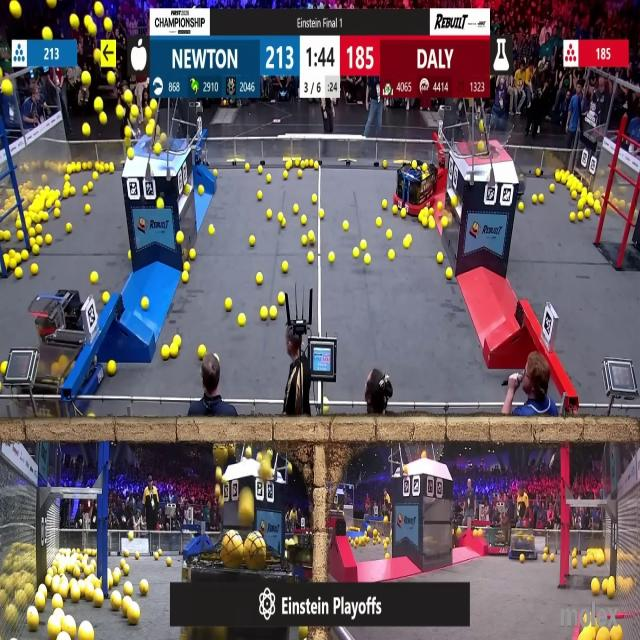ball_airborne: (236, 487, 251, 525), (263, 460, 275, 486), (241, 488, 253, 509), (85, 14, 95, 33), (10, 1, 20, 18), (88, 20, 98, 36), (94, 98, 104, 112), (2, 80, 12, 94), (95, 2, 104, 16), (115, 105, 124, 119), (104, 18, 112, 33), (82, 124, 90, 138), (70, 14, 78, 28), (108, 72, 116, 85), (82, 72, 90, 85), (132, 105, 140, 117), (125, 126, 133, 138), (100, 112, 108, 124), (125, 92, 133, 104), (215, 467, 222, 480), (94, 48, 101, 61), (479, 142, 486, 153), (150, 100, 157, 111), (158, 199, 165, 210), (215, 485, 221, 497), (128, 147, 134, 158), (146, 126, 152, 137), (145, 107, 151, 118), (246, 448, 252, 459), (155, 144, 161, 154), (148, 120, 154, 130), (480, 119, 485, 131), (259, 521, 265, 530), (42, 174, 47, 183), (148, 119, 155, 125), (162, 134, 167, 142)
ball_ground: (129, 605, 141, 626), (110, 594, 120, 610), (36, 596, 45, 612), (54, 595, 64, 609), (95, 592, 104, 607), (140, 581, 149, 596), (592, 580, 600, 596), (71, 588, 80, 602), (199, 345, 207, 360), (108, 360, 116, 374), (125, 585, 134, 597), (270, 307, 278, 320), (163, 346, 171, 359), (176, 232, 184, 245), (224, 298, 231, 312), (607, 586, 614, 600), (278, 292, 286, 304), (102, 291, 110, 303), (123, 584, 131, 596), (92, 273, 100, 284), (31, 265, 38, 277), (172, 346, 179, 358), (255, 273, 262, 285), (239, 314, 246, 326), (121, 597, 127, 611), (438, 252, 446, 262), (596, 202, 602, 215), (364, 253, 371, 264), (173, 337, 180, 348), (188, 249, 195, 260), (282, 262, 288, 274), (102, 294, 108, 306), (15, 269, 22, 279), (183, 263, 190, 273), (22, 250, 29, 260), (447, 269, 453, 280), (360, 240, 366, 251), (182, 273, 188, 284), (249, 236, 255, 247), (443, 216, 449, 227), (453, 196, 459, 207), (292, 204, 299, 213), (328, 252, 334, 262), (33, 245, 39, 255), (586, 209, 592, 219), (353, 248, 359, 258), (309, 252, 315, 262), (209, 224, 215, 234), (309, 231, 314, 243), (571, 558, 577, 568), (45, 235, 51, 245), (199, 185, 205, 195), (84, 204, 90, 214), (302, 216, 309, 224), (550, 184, 557, 192), (285, 162, 292, 170), (186, 271, 191, 282), (577, 199, 582, 210), (256, 190, 262, 199), (399, 209, 405, 218), (66, 223, 72, 232), (16, 232, 22, 241), (312, 193, 318, 202), (55, 209, 61, 218), (588, 198, 594, 207), (382, 201, 388, 210), (598, 556, 604, 565), (344, 220, 349, 230), (392, 206, 397, 216), (387, 230, 392, 240), (319, 209, 324, 219), (539, 193, 544, 203), (9, 260, 14, 270), (584, 556, 589, 566), (296, 170, 302, 178), (310, 196, 316, 204), (571, 190, 577, 198), (518, 204, 524, 212), (403, 240, 409, 248), (294, 162, 300, 170), (429, 220, 435, 228), (577, 211, 582, 220), (64, 188, 69, 197), (257, 167, 262, 175), (570, 212, 575, 220), (378, 217, 382, 227), (314, 163, 319, 171), (56, 200, 61, 208), (269, 209, 273, 219), (324, 406, 328, 416), (532, 194, 537, 202), (383, 162, 388, 170), (557, 172, 561, 182), (268, 174, 272, 183), (385, 553, 390, 560), (542, 555, 547, 562), (521, 556, 526, 563), (168, 558, 172, 566), (536, 169, 540, 177), (44, 212, 48, 220), (10, 249, 14, 257), (284, 172, 288, 180), (154, 553, 158, 561), (281, 219, 285, 227), (186, 265, 192, 270), (280, 213, 284, 220), (423, 449, 427, 456), (583, 616, 587, 623), (244, 163, 248, 169), (136, 554, 140, 560)
goal: (460, 118, 516, 158)
robot_red: (397, 160, 438, 212), (487, 527, 511, 554)
